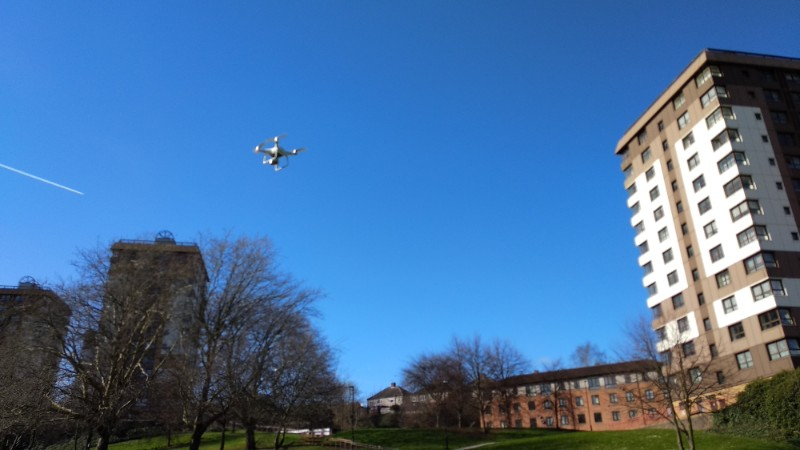drone: (251, 132, 311, 174)
